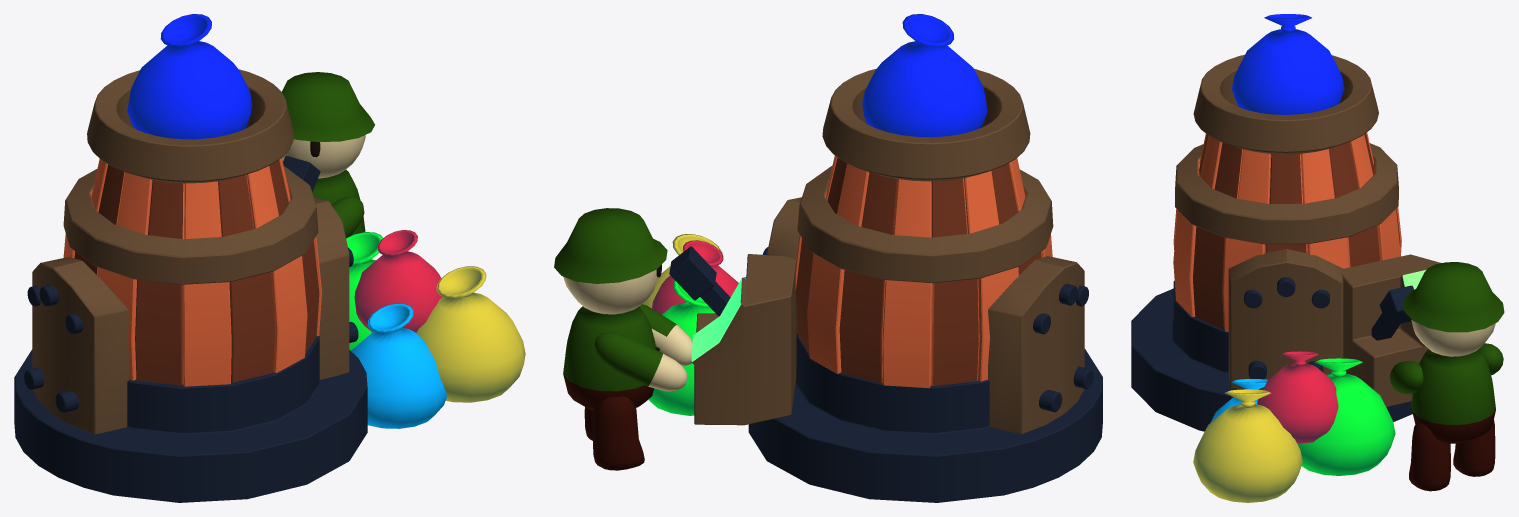
Rendered from bomba_1_.fbx.
3 views of the same model, side by side, from view 1: azimuth 30°, elevation 25°; view 2: azimuth 150°, elevation 25°; view 3: azimuth 270°, elevation 25° (orthographic). The views are drawn at different scales.
Visible parts, largest first — view 1: bomba 1, Sphere.001, Sphere.004, bomba adam; view 2: bomba 1, bomba adam, Sphere.004, Sphere.001; view 3: bomba 1, Sphere.001, bomba adam, Sphere.004.
Boxes of the visible parts, bbox=[...] form: bomba 1: bbox=[14, 69, 367, 502]; Sphere.001: bbox=[346, 230, 525, 428]; Sphere.004: bbox=[127, 14, 252, 139]; bomba adam: bbox=[282, 72, 374, 237]; bomba 1: bbox=[669, 68, 1102, 502]; bomba adam: bbox=[554, 208, 692, 470]; Sphere.004: bbox=[862, 14, 987, 137]; Sphere.001: bbox=[642, 234, 746, 415]; bomba 1: bbox=[1131, 54, 1441, 431]; Sphere.001: bbox=[1193, 351, 1395, 502]; bomba adam: bbox=[1390, 262, 1504, 491]; Sphere.004: bbox=[1232, 14, 1344, 114].
Bounding box in the file's own units: 396 × 353 × 312.
